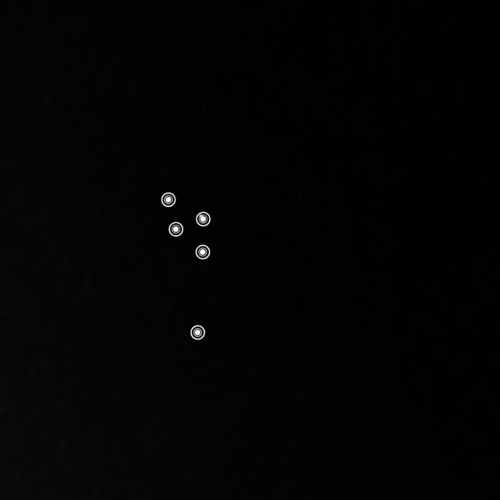delphinus: (153, 184, 216, 347)
